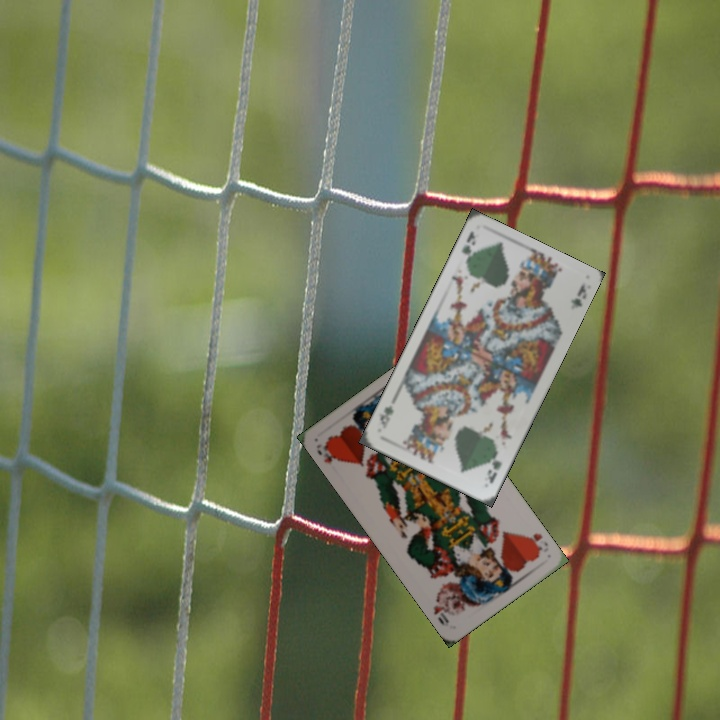GK: (457, 227, 478, 267), (483, 456, 505, 486)
HO: (312, 438, 341, 466), (523, 529, 551, 558)
